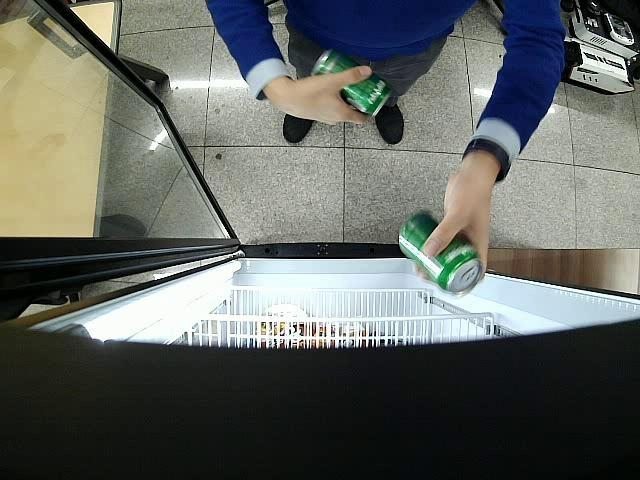12_chilsungCider: (398, 209, 482, 296), (312, 49, 391, 117)
